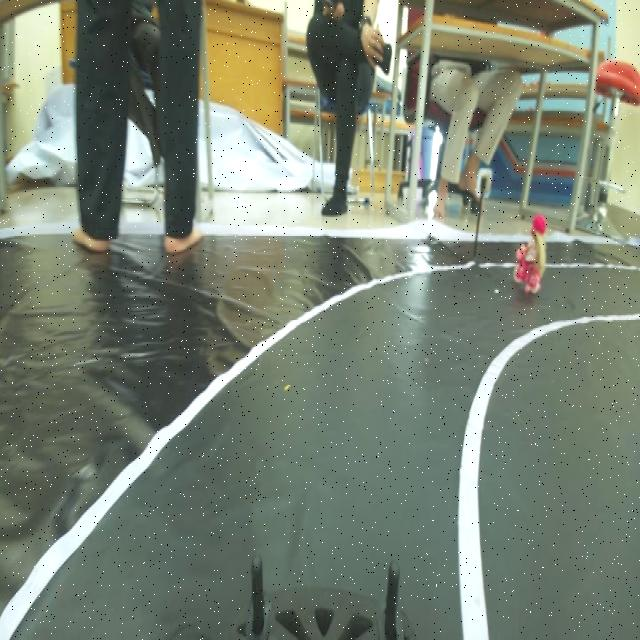pedestrian: (514, 202, 548, 300)
